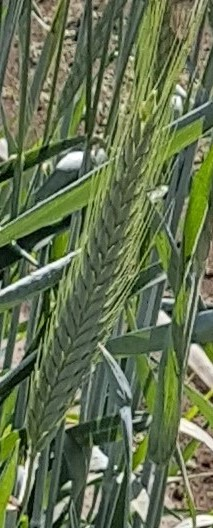Healthy Wheat: (28, 116, 162, 434)
